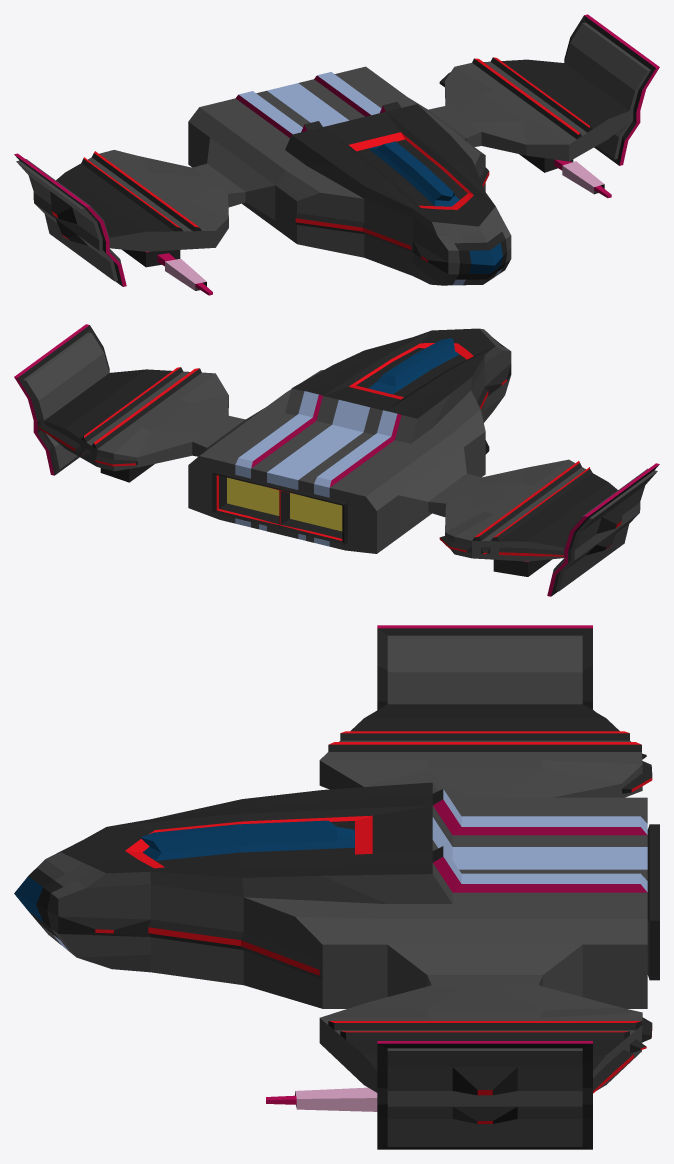
The model's file is ship.fbx.
The picture shows the model from 3 angles, top to bottom: view 1: azimuth 30°, elevation 25°; view 2: azimuth 150°, elevation 25°; view 3: azimuth 270°, elevation 25°; orthographic projection. The views are drawn at different scales.
Parts seen in each view (by area): view 1: Cube; view 2: Cube; view 3: Cube.
Part boxes in pixels (x1,y1,x2,y2): Cube: [14, 14, 659, 295]; Cube: [14, 324, 659, 596]; Cube: [14, 625, 659, 1149].
Bounding box in the file's own units: 612 × 103 × 397.
